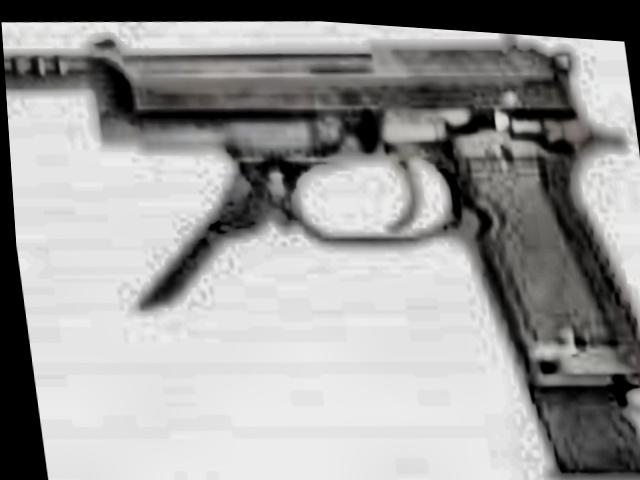pistol: (68, 4, 640, 425)
